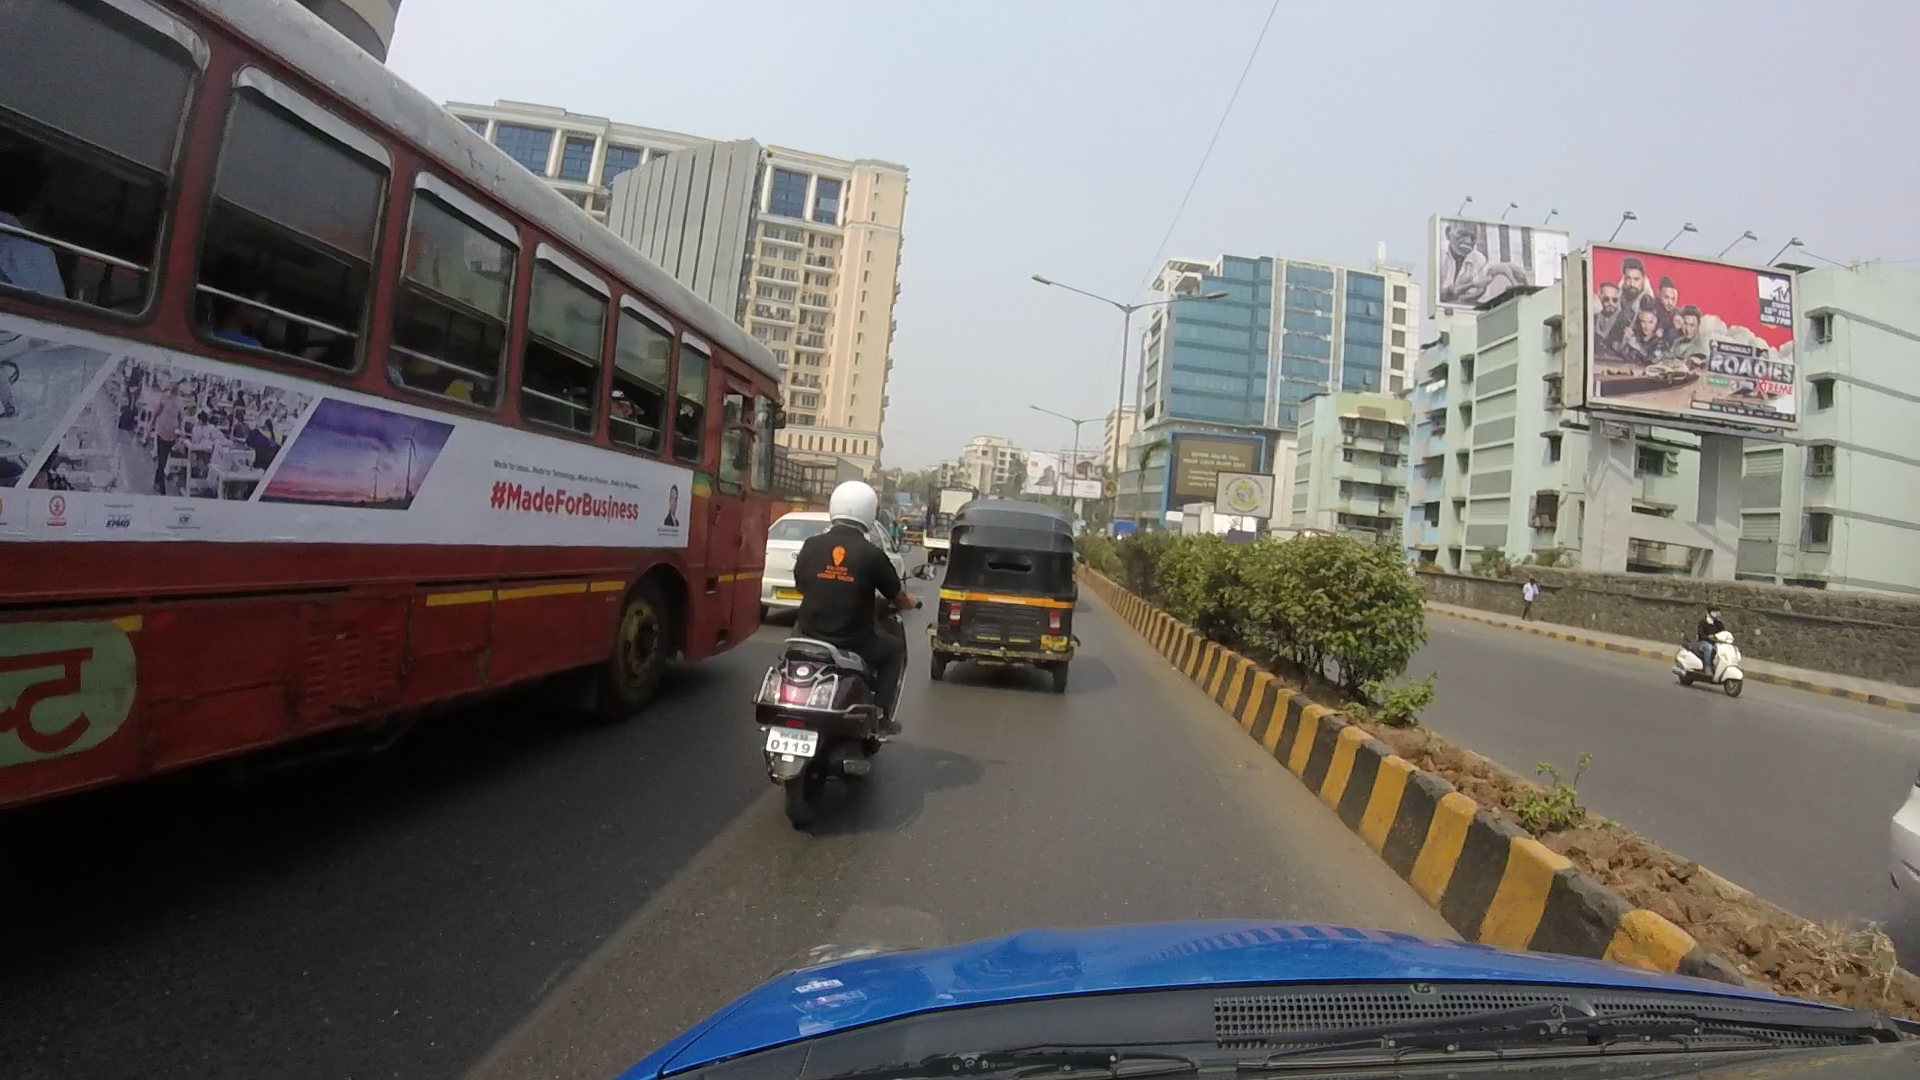bike/scooter: (733, 469, 913, 819), (1655, 596, 1768, 707)
bus: (4, 4, 781, 785)
rickshaw: (930, 475, 1116, 740)
